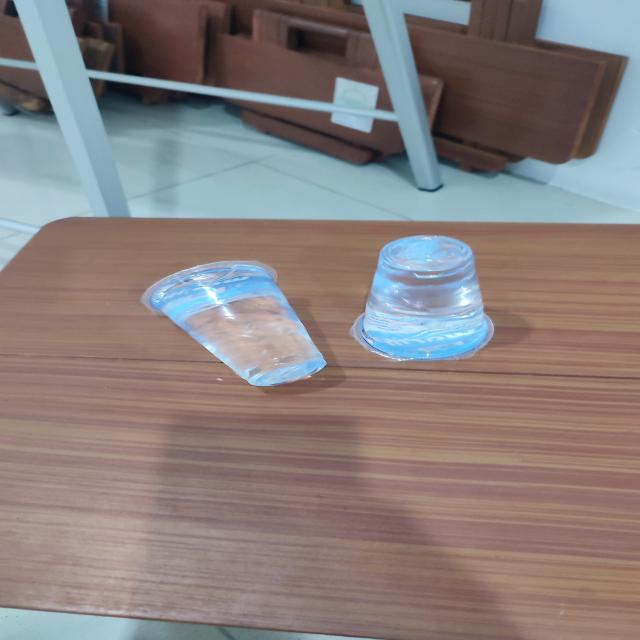air gelas: (133, 252, 335, 387), (350, 225, 504, 373)
